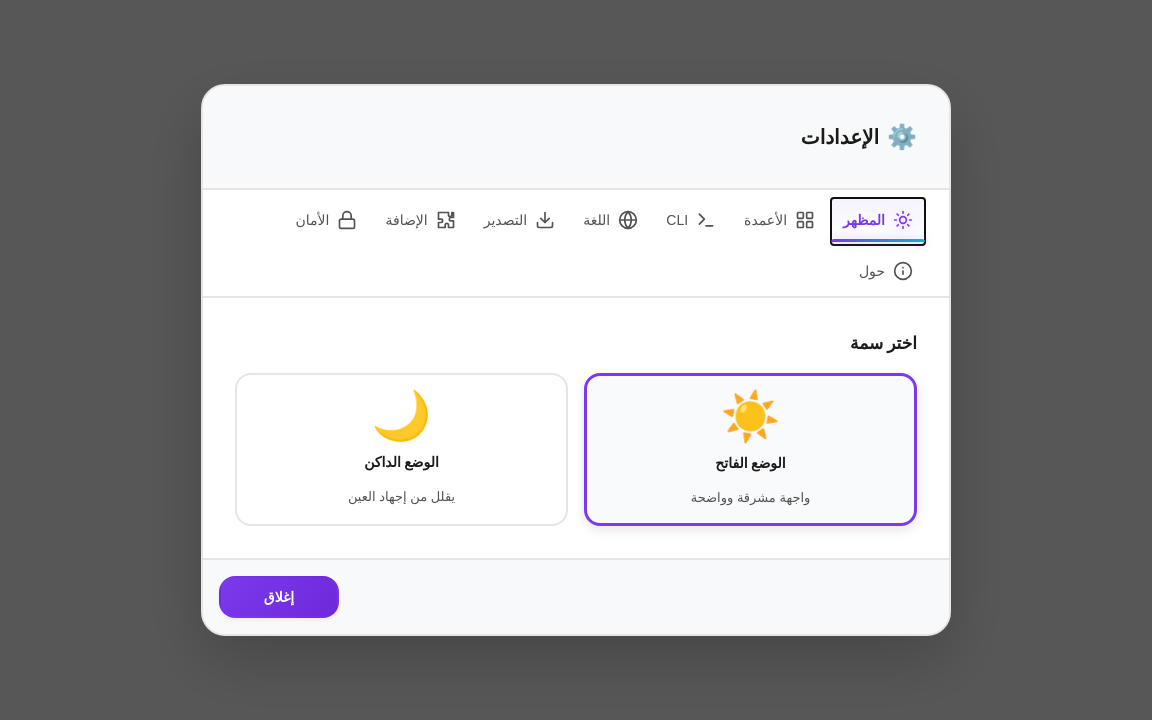
Test case: onglet CLI (arabe) : commandes entre parenthèses de l'en-tête isolées en ltr
Click the tab "CLI".
click(691, 222)  # box [654, 198, 728, 245]
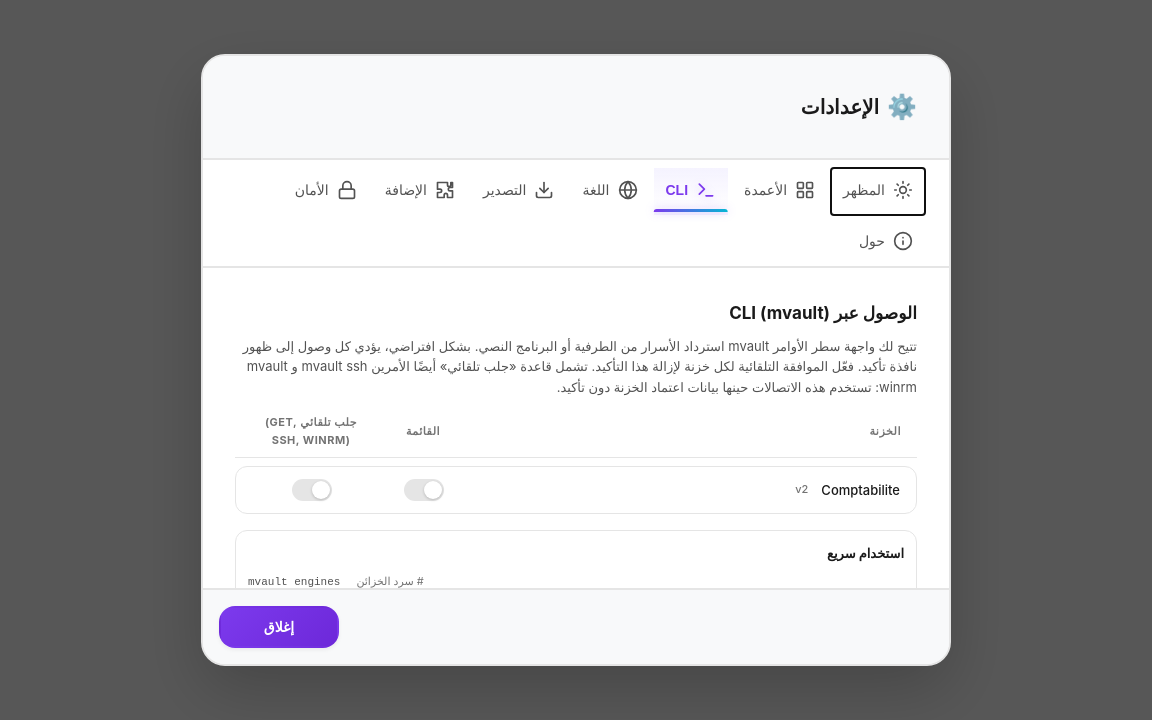
Check: the element showing "جلب تلقائي (get, ssh, winrm)" is shown, box [265, 415, 357, 447]
Check: the text "(get, ssh, winrm)" is shown, box [265, 415, 350, 447]
